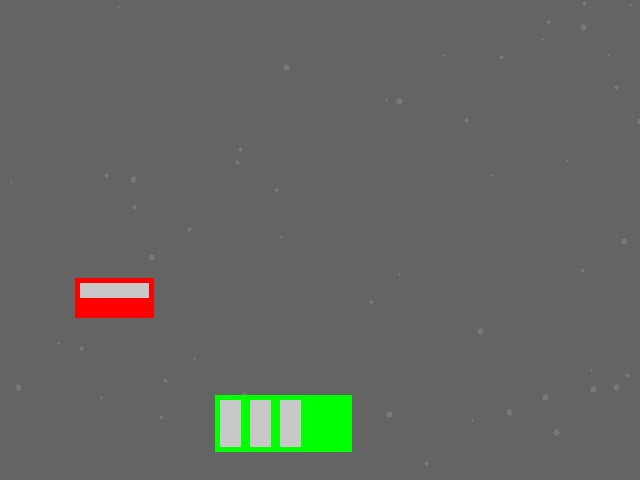bus: (215, 395, 351, 451)
car: (75, 278, 153, 317)
